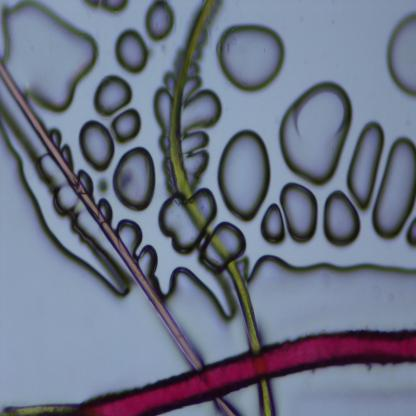Air bubble: (0, 115, 129, 298), (4, 0, 98, 112), (277, 78, 354, 180), (244, 250, 416, 287), (216, 128, 272, 224), (218, 24, 286, 92), (371, 138, 416, 240), (168, 264, 239, 328), (184, 74, 221, 188), (158, 187, 216, 254), (346, 121, 386, 213), (386, 7, 416, 100), (113, 147, 154, 213), (280, 180, 318, 246), (204, 219, 247, 272), (323, 190, 362, 248), (78, 117, 116, 173), (92, 70, 134, 118), (115, 27, 148, 74), (152, 87, 172, 160), (112, 105, 142, 146), (260, 203, 287, 247), (146, 2, 174, 42), (118, 220, 144, 254), (139, 243, 158, 280), (85, 0, 131, 14), (79, 168, 94, 193), (404, 218, 416, 247), (100, 196, 113, 221), (164, 70, 176, 94), (62, 144, 74, 165), (51, 128, 63, 148)
Hair textile: (77, 326, 416, 414)
Microfibre: (0, 62, 202, 371), (171, 0, 261, 352), (0, 402, 78, 416), (257, 378, 277, 416), (214, 398, 235, 416)
